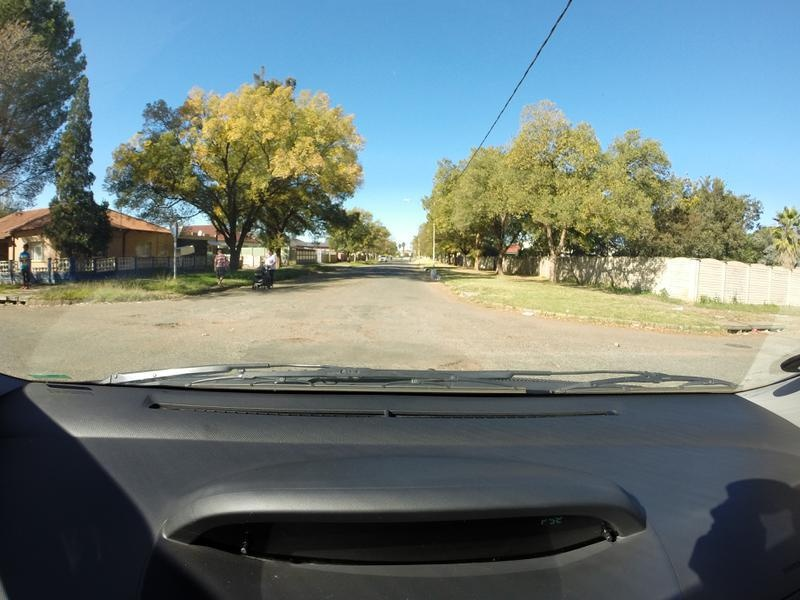pothole: (432, 350, 483, 370), (262, 339, 317, 347), (153, 321, 185, 331), (128, 311, 142, 318)
